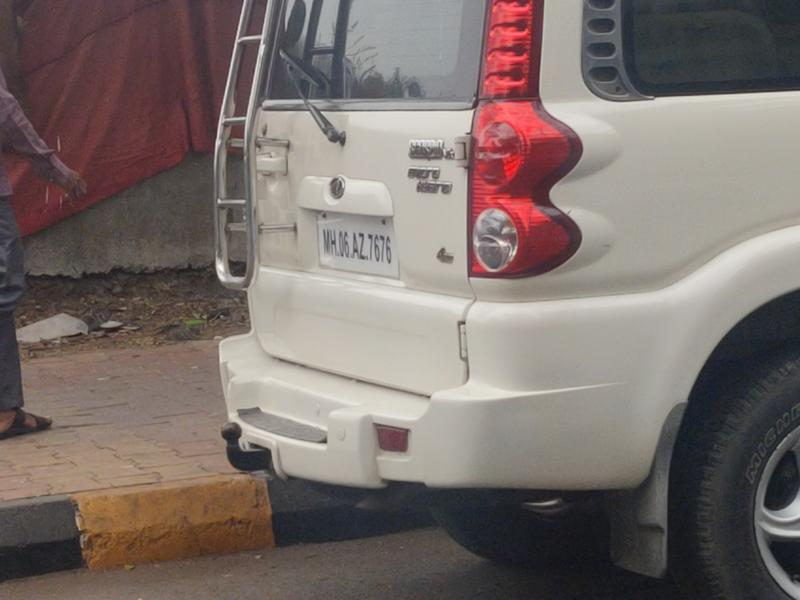license_plate: (306, 208, 406, 282)
